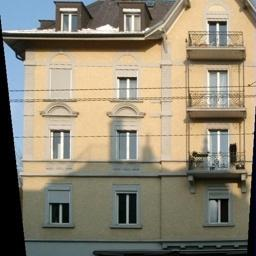building: (22, 0, 256, 240)
